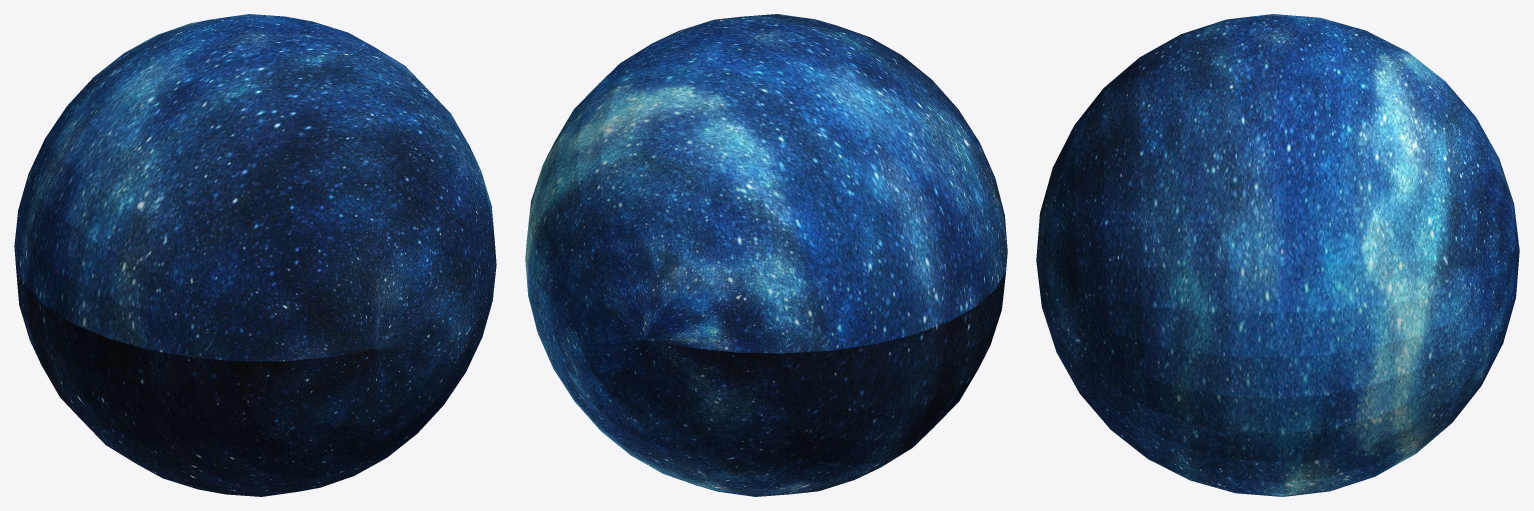
Rendered from skybox.obj.
The picture shows the model from 3 angles, left to right: view 1: azimuth 30°, elevation 25°; view 2: azimuth 150°, elevation 25°; view 3: azimuth 270°, elevation 25°; orthographic projection.
Parts seen in each view (by area): view 1: Sphere; view 2: Sphere; view 3: Sphere.
Part boxes in pixels (x1,y1,x2,y2): Sphere: (14, 14, 496, 496); Sphere: (525, 14, 1007, 496); Sphere: (1036, 14, 1519, 496).
Bounding box in the file's own units: 40 × 39.99 × 39.99.
